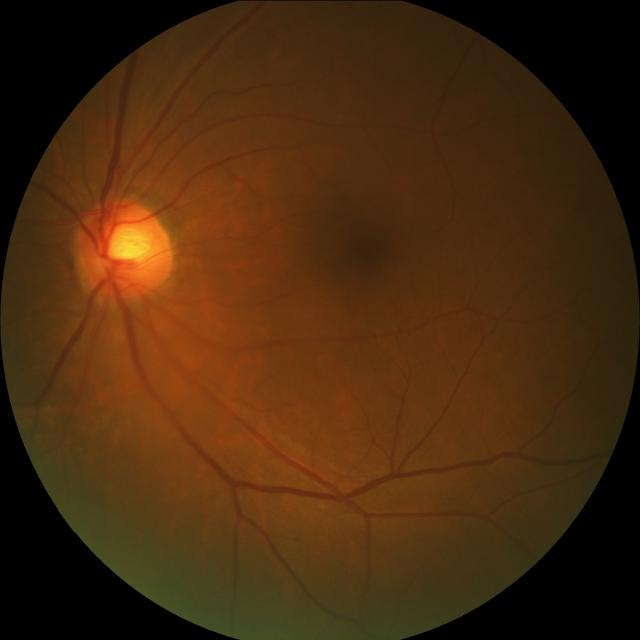OC: (100, 216, 150, 271)
OD: (77, 198, 172, 300)
